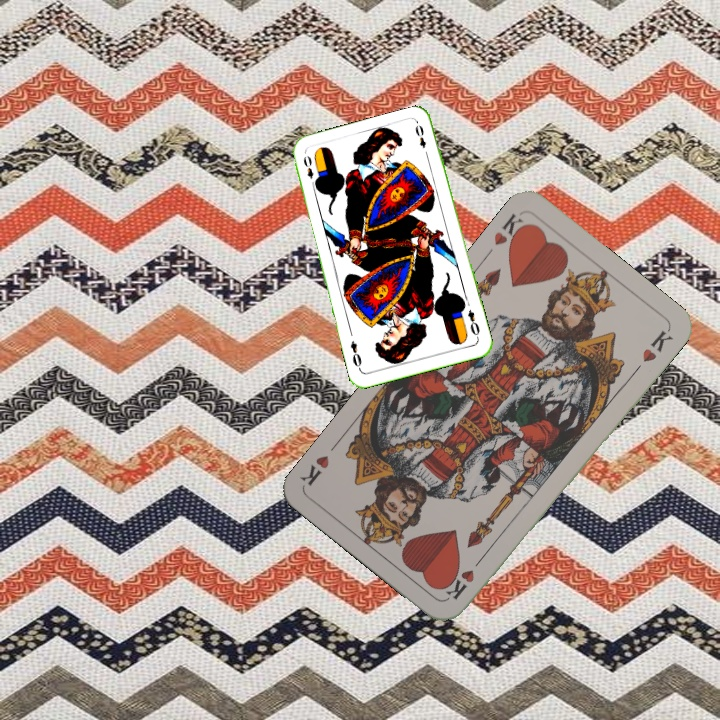EO: (299, 151, 320, 190), (464, 305, 482, 341)
HK: (441, 551, 487, 602), (489, 208, 532, 252)
